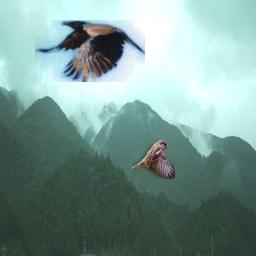Crow: (35, 20, 145, 82)
Sparrow: (132, 139, 175, 179)
